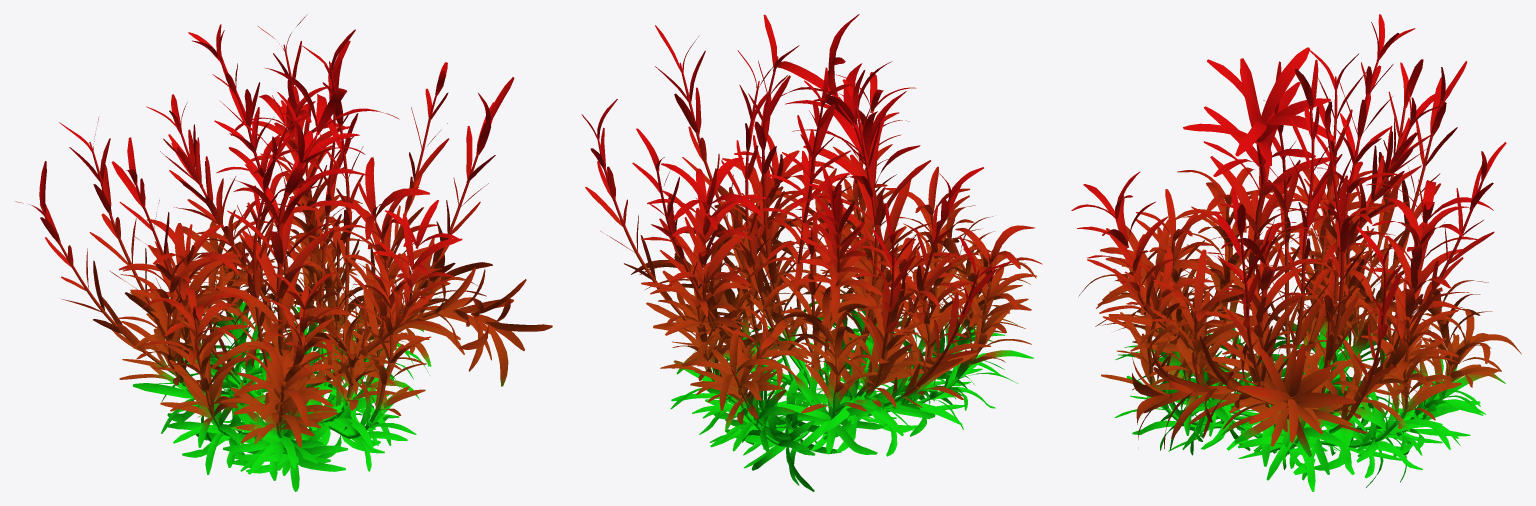
The model's file is Var6_LOD0.fbx.
The picture shows the model from 3 angles, left to right: view 1: azimuth 30°, elevation 25°; view 2: azimuth 150°, elevation 25°; view 3: azimuth 270°, elevation 25°; orthographic projection. The views are drawn at different scales.
Visible parts, largest first — view 1: _n7cf_Var6_LOD0; view 2: _n7cf_Var6_LOD0; view 3: _n7cf_Var6_LOD0.
Part boxes in pixels (box(x1,y1,x2,y2)): _n7cf_Var6_LOD0: box(15, 14, 552, 491); _n7cf_Var6_LOD0: box(581, 14, 1042, 491); _n7cf_Var6_LOD0: box(1071, 14, 1521, 491).
Bounding box in the file's own units: 32.77 × 30.99 × 27.89.
